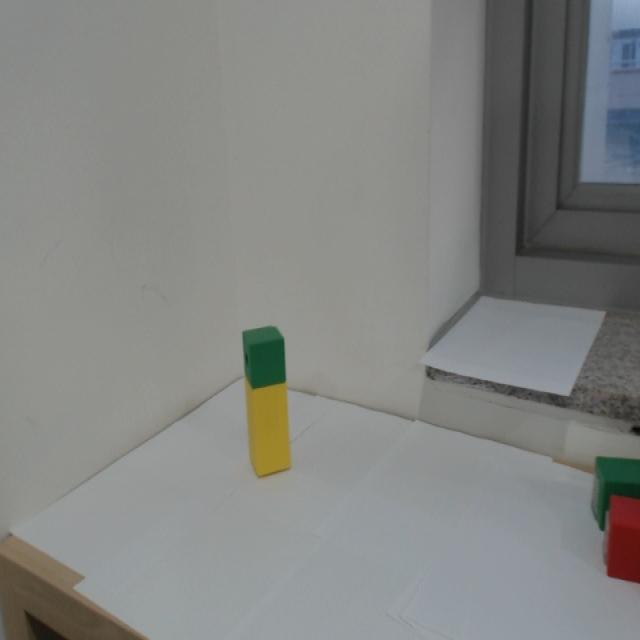cube: (240, 320, 291, 393)
